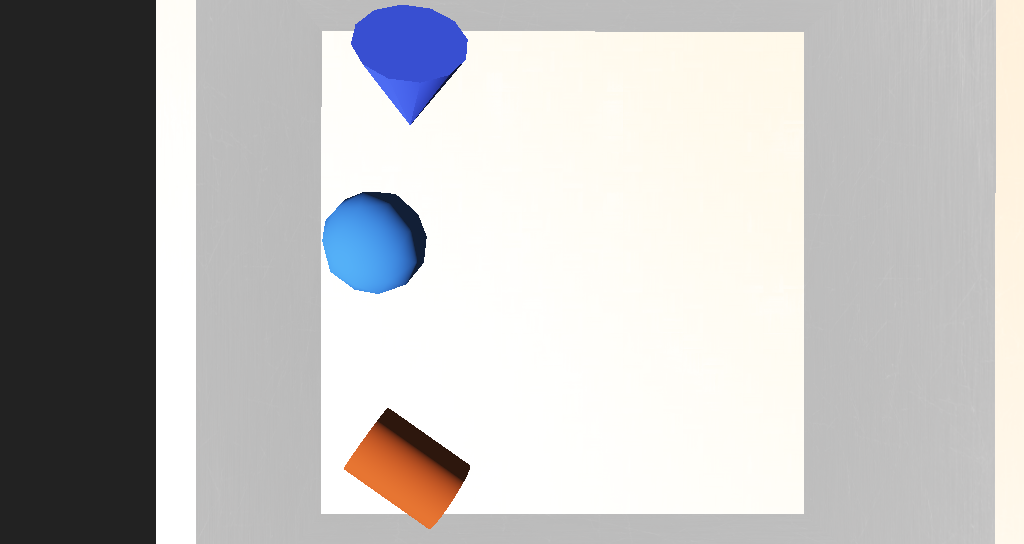cone: (367, 324, 455, 382)
cylinder: (357, 146, 451, 227)
sphere: (360, 236, 421, 279)
